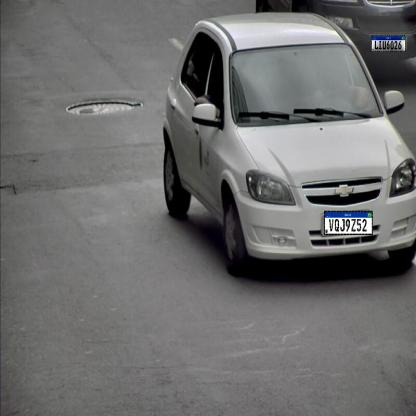PlacaM: (324, 211, 373, 235), (371, 35, 406, 52)
